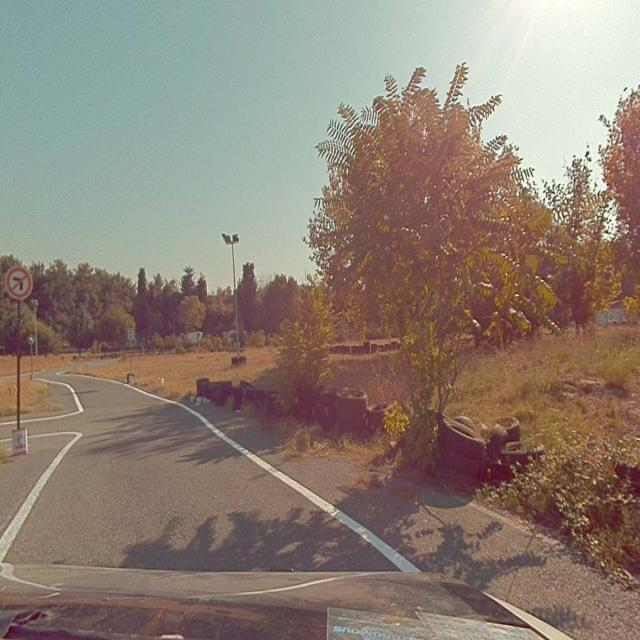durak: (128, 331, 134, 338)
soladonulmez: (8, 269, 32, 295)
